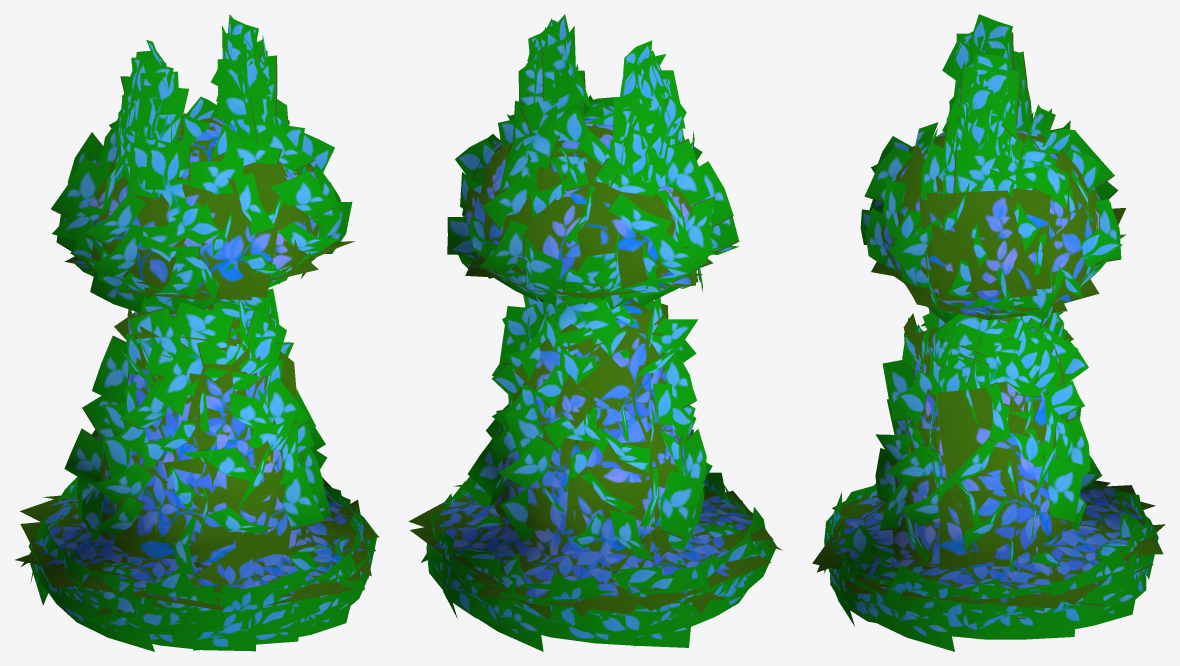
Rendered from Homeworld_Exterior_Common_Flower_Decoration_Green_03_A_Lod0.fbx.
The picture shows the model from 3 angles, left to right: view 1: azimuth 30°, elevation 25°; view 2: azimuth 150°, elevation 25°; view 3: azimuth 270°, elevation 25°; orthographic projection.
Parts seen in each view (by area): view 1: Homeworld_Exterior_Common_Flower_Decoration_Green_03_A_Lod0; view 2: Homeworld_Exterior_Common_Flower_Decoration_Green_03_A_Lod0; view 3: Homeworld_Exterior_Common_Flower_Decoration_Green_03_A_Lod0.
Boxes of the visible parts, box(x1,y1,x2,y2) form: Homeworld_Exterior_Common_Flower_Decoration_Green_03_A_Lod0: box(15, 14, 379, 651); Homeworld_Exterior_Common_Flower_Decoration_Green_03_A_Lod0: box(408, 14, 782, 651); Homeworld_Exterior_Common_Flower_Decoration_Green_03_A_Lod0: box(812, 14, 1165, 651).
Size of the model in its own units: 1.1 by 1.89 by 1.08.
